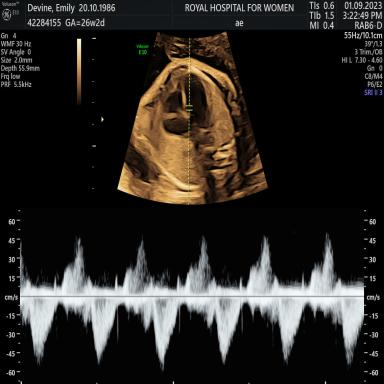Ultrasound-Waves: (26, 213, 363, 384)
